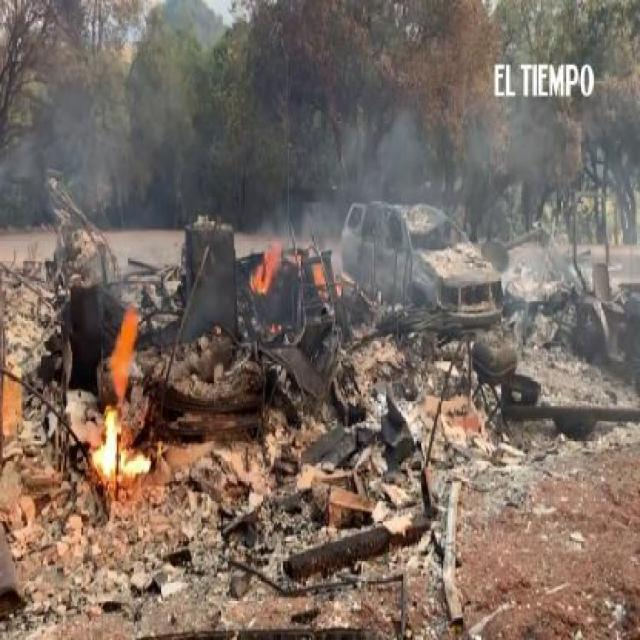Fire: (103, 310, 149, 404), (90, 412, 152, 474), (0, 366, 25, 440), (249, 238, 280, 294)
